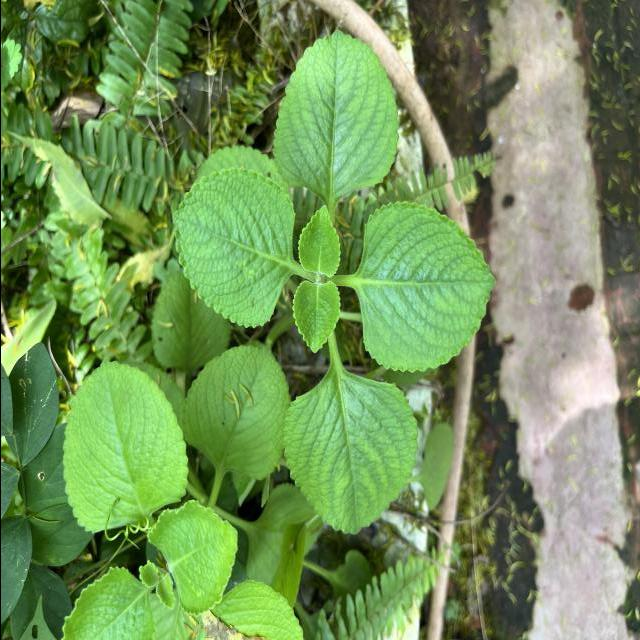Plectranthus barbatus: (355, 198, 497, 374), (279, 368, 419, 536), (270, 28, 400, 204), (60, 357, 188, 535), (170, 166, 296, 330), (178, 343, 288, 482), (144, 499, 238, 617), (290, 280, 342, 355), (296, 204, 340, 279)
